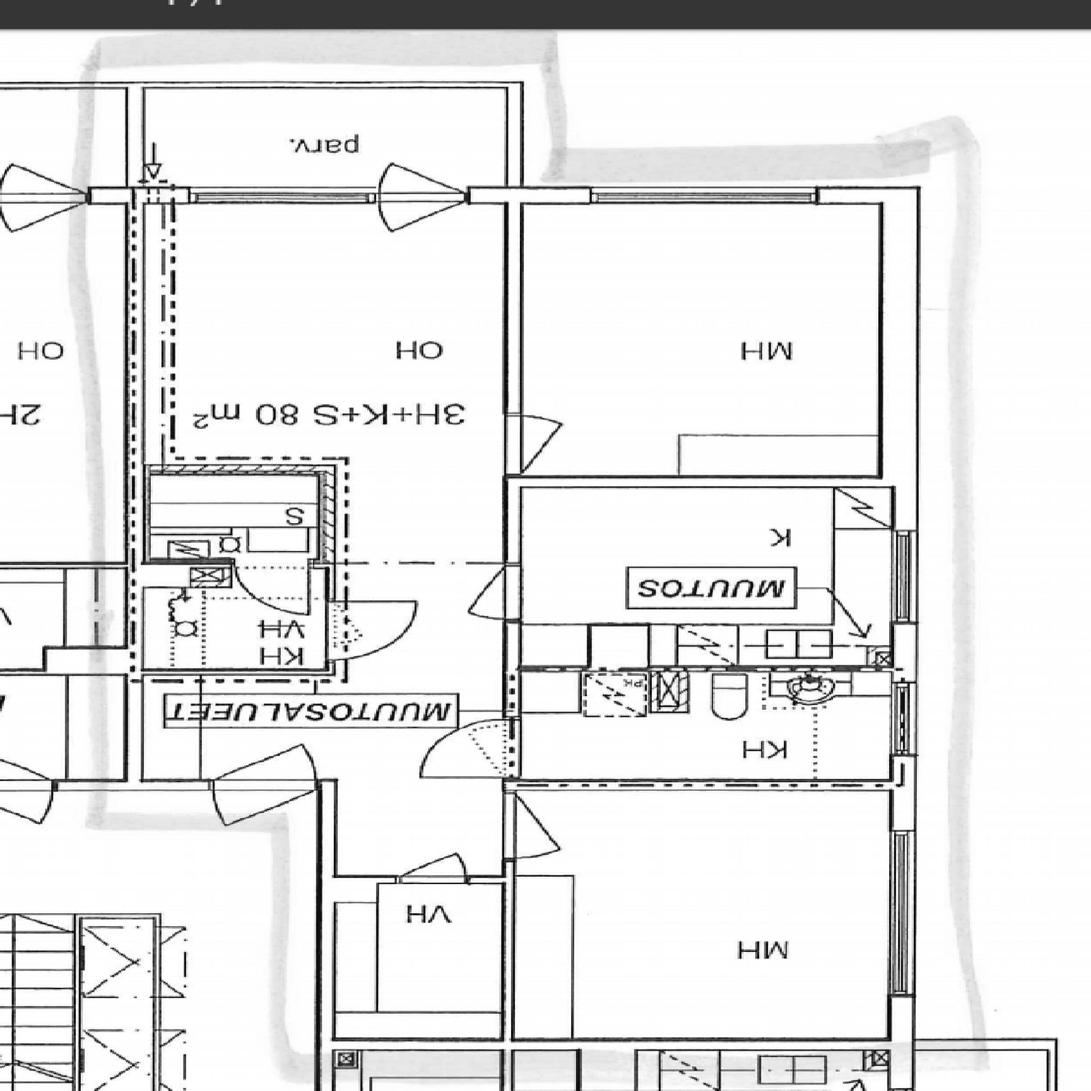wall: (124, 187, 917, 203), (880, 187, 917, 487), (888, 671, 917, 1050), (504, 204, 521, 790), (318, 1037, 917, 1050), (124, 187, 146, 475), (505, 778, 889, 790), (124, 588, 146, 791), (521, 476, 917, 487), (892, 487, 917, 646), (504, 790, 517, 1038), (124, 558, 230, 588), (124, 778, 337, 791), (318, 902, 336, 1050), (124, 463, 151, 558), (124, 463, 335, 475), (521, 665, 917, 671), (124, 558, 335, 568), (124, 81, 143, 187), (504, 81, 521, 187), (319, 778, 337, 875), (319, 875, 377, 902), (319, 463, 335, 558), (319, 875, 505, 883), (652, 671, 688, 712), (866, 646, 917, 671), (325, 558, 335, 675), (146, 669, 335, 675)
